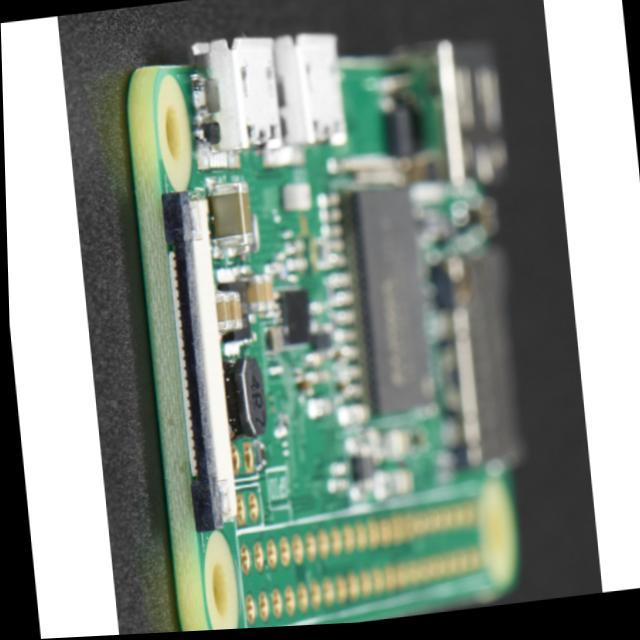Raspberry-Pi-Zero-W: (129, 34, 519, 631)
